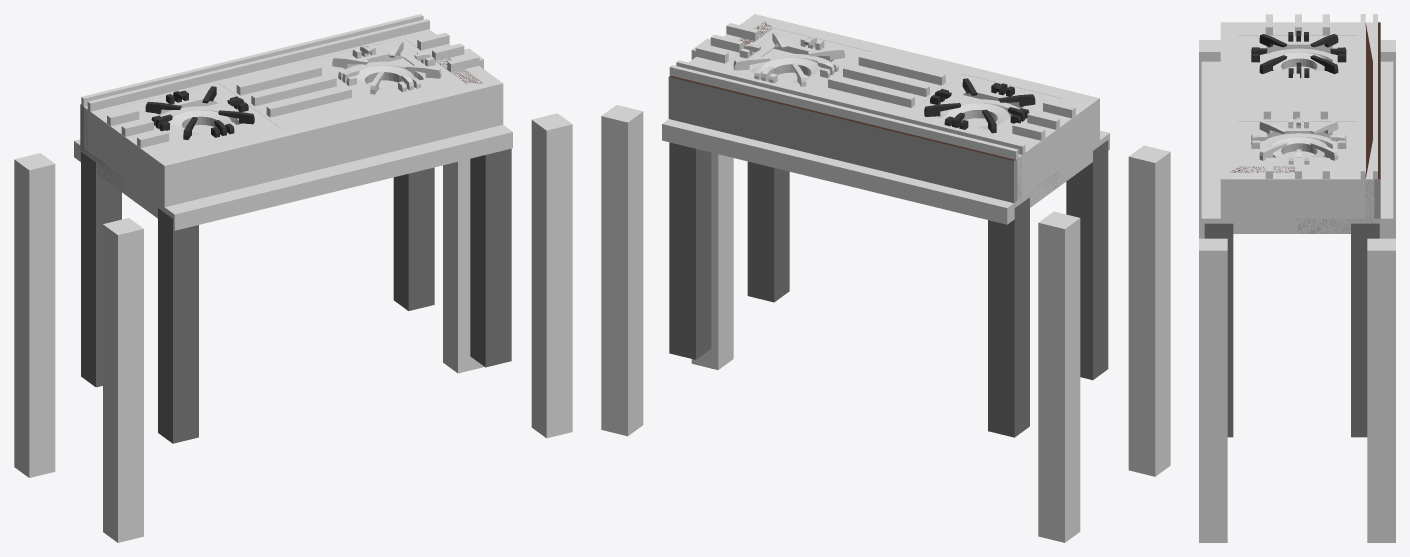
The model's file is Fire_konro.fbx.
The picture shows the model from 3 angles, left to right: view 1: azimuth 30°, elevation 25°; view 2: azimuth 150°, elevation 25°; view 3: azimuth 270°, elevation 25°; orthographic projection. The views are drawn at different scales.
Visible parts, largest first — view 1: konro.001, konro, konro_cube.001, Plane.001, aaaa.001, sasae.003, sasae.005, sasae.002, sasae.004; view 2: konro.001, konro, konro_cube.001, Plane.001, aaaa.001, sasae.003, sasae.005, sasae.004, sasae.002; view 3: konro.001, konro, Plane.001, konro_cube.001, aaaa.001, sasae.004, sasae.002, sasae.005, sasae.003.
Part boxes in pixels (bbox=[...]): konro.001: bbox=[14, 29, 572, 542]; konro: bbox=[80, 58, 511, 443]; konro_cube.001: bbox=[81, 14, 479, 147]; Plane.001: bbox=[121, 38, 465, 151]; aaaa.001: bbox=[160, 61, 427, 135]; sasae.003: bbox=[338, 45, 435, 92]; sasae.005: bbox=[151, 90, 248, 137]; sasae.002: bbox=[332, 40, 441, 94]; sasae.004: bbox=[145, 86, 254, 139]; konro.001: bbox=[601, 14, 1170, 542]; konro: bbox=[668, 22, 1108, 437]; konro_cube.001: bbox=[669, 23, 1075, 159]; Plane.001: bbox=[717, 28, 1060, 139]; aaaa.001: bbox=[744, 53, 1019, 129]; sasae.003: bbox=[739, 36, 838, 83]; sasae.005: bbox=[930, 83, 1029, 129]; sasae.004: bbox=[924, 78, 1035, 133]; sasae.002: bbox=[733, 32, 844, 86]; konro.001: bbox=[1199, 22, 1395, 542]; konro: bbox=[1204, 22, 1380, 437]; Plane.001: bbox=[1238, 35, 1356, 166]; konro_cube.001: bbox=[1263, 14, 1377, 179]; aaaa.001: bbox=[1266, 48, 1332, 157]; sasae.004: bbox=[1259, 34, 1338, 74]; sasae.002: bbox=[1259, 120, 1338, 160]; sasae.005: bbox=[1251, 31, 1346, 77]; sasae.003: bbox=[1251, 117, 1346, 164].
Bounding box in the file's own units: 913 × 697 × 361.
